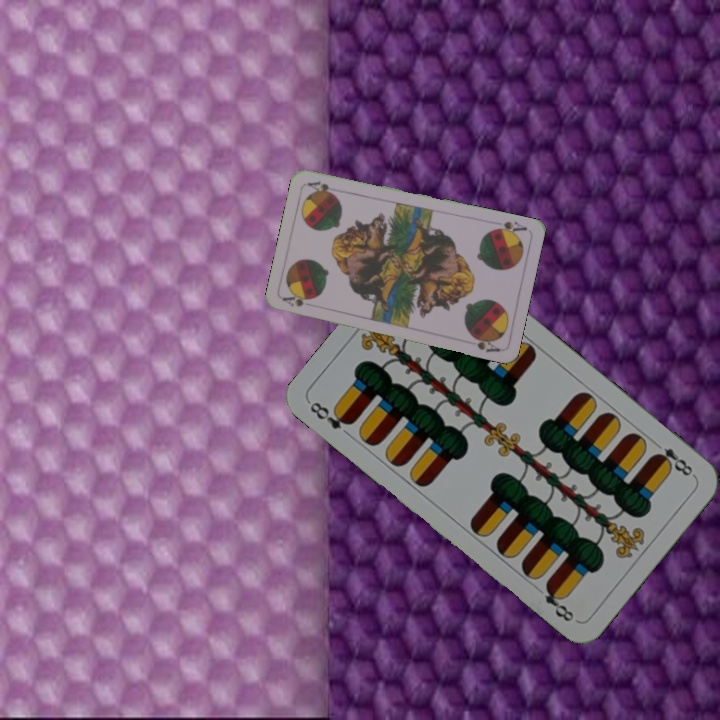E8: (649, 436, 698, 480), (305, 397, 356, 432)
SA: (488, 217, 530, 238), (279, 292, 313, 309)
